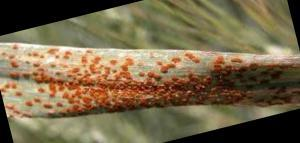Wheat: (4, 49, 122, 108), (183, 58, 289, 98), (124, 54, 179, 103)
